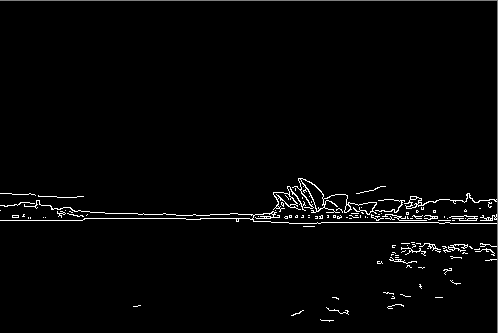opera house: (238, 157, 378, 229)
